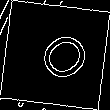O_SW: (21, 22, 89, 88)
